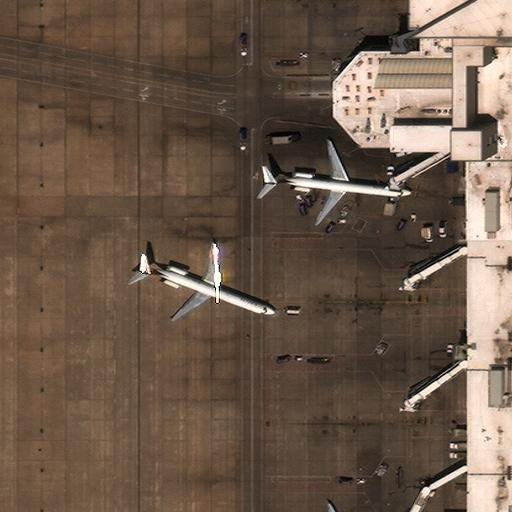Medium Civil Transport: (261, 140, 413, 226), (135, 244, 275, 321)
